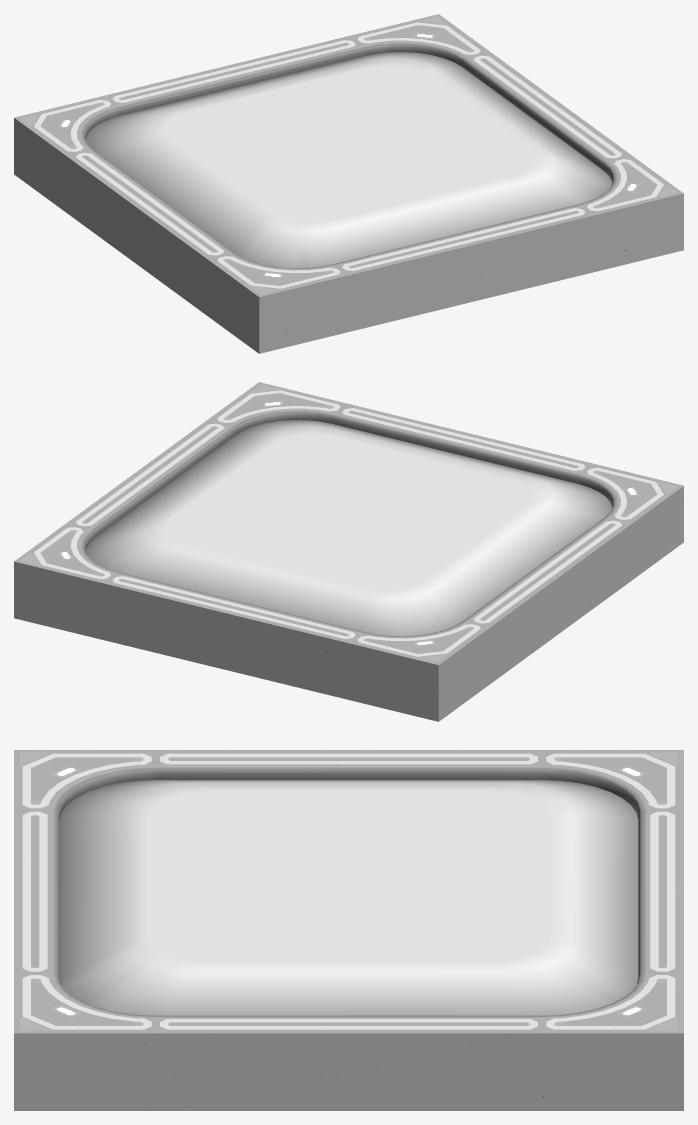
File: SM_Modular_Ceiling_Window1_Merged.fbx
3 views of the same model, one above another, from view 1: azimuth 30°, elevation 25°; view 2: azimuth 150°, elevation 25°; view 3: azimuth 270°, elevation 25° (orthographic). The views are drawn at different scales.
Visible parts, largest first — view 1: SM_Modular_Ceiling_Window1_Merged_LOD0; view 2: SM_Modular_Ceiling_Window1_Merged_LOD0; view 3: SM_Modular_Ceiling_Window1_Merged_LOD0.
Boxes of the visible parts, x1,y1,x2,y2 form: SM_Modular_Ceiling_Window1_Merged_LOD0: (14, 14, 683, 353); SM_Modular_Ceiling_Window1_Merged_LOD0: (14, 382, 683, 721); SM_Modular_Ceiling_Window1_Merged_LOD0: (14, 750, 683, 1110).
Bounding box in the file's own units: 500 × 500 × 76.38.
